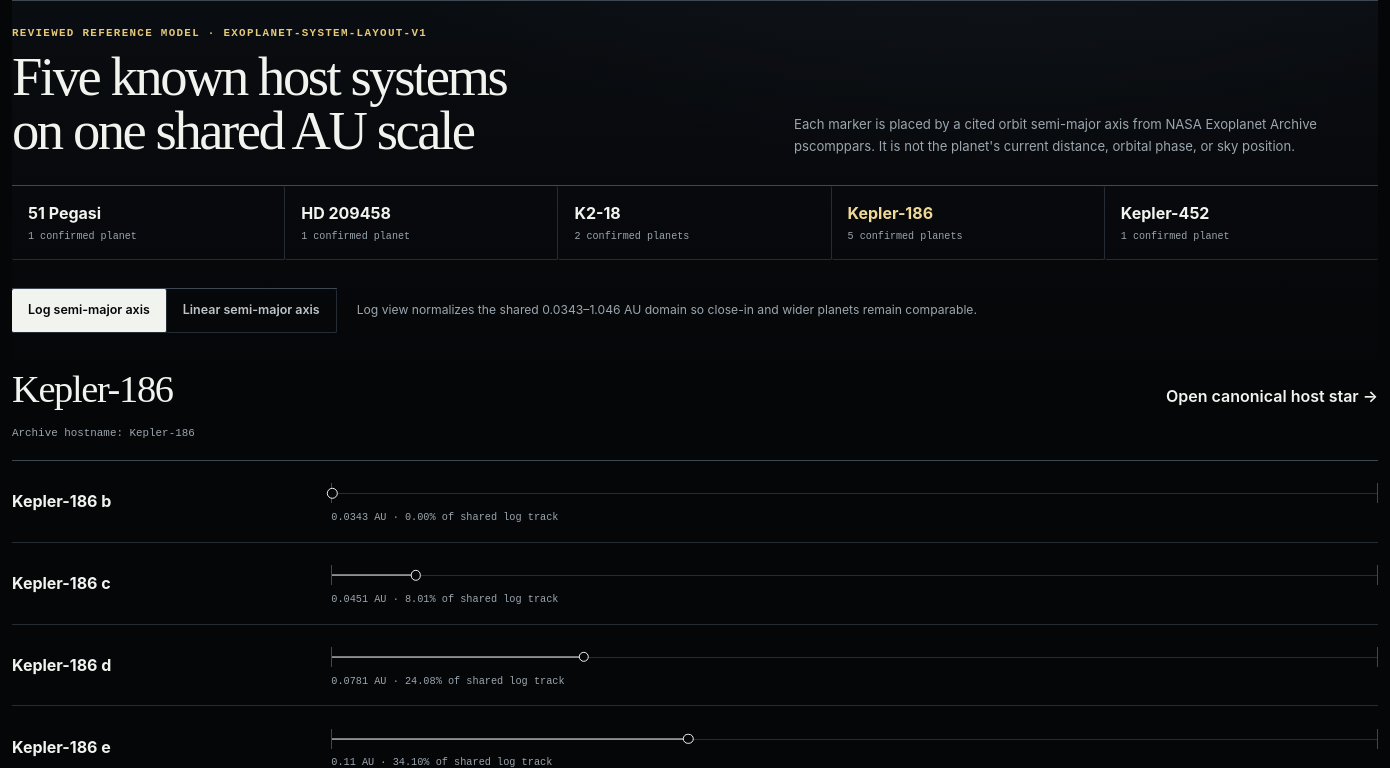
Test: Exoplanet System Explorer › preserves split parameter references for HD 209458 b
Step 1. Click the button with aria-label "HD 209458, 1 confirmed planet" → point(346, 213), box x1=285 y1=186 x2=558 y2=260
(page scrolled)
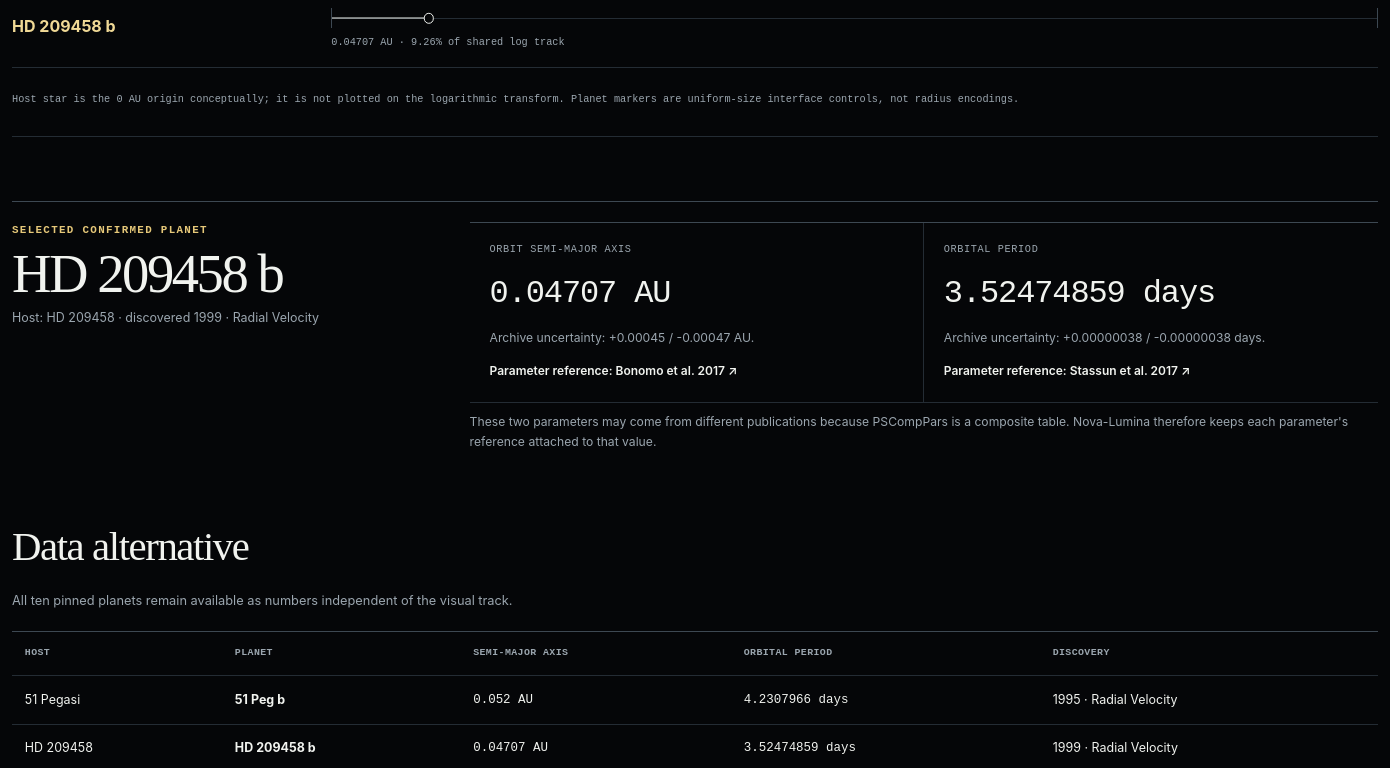
Now the text "0.04707 AU" is shown, box x1=490 y1=274 x2=670 y2=312
Now the text "3.52474859 days" is shown, box x1=944 y1=274 x2=1215 y2=312
Now the link "Parameter reference: Bonomo et al. 2017 ↗" is shown, box x1=490 y1=363 x2=737 y2=378
